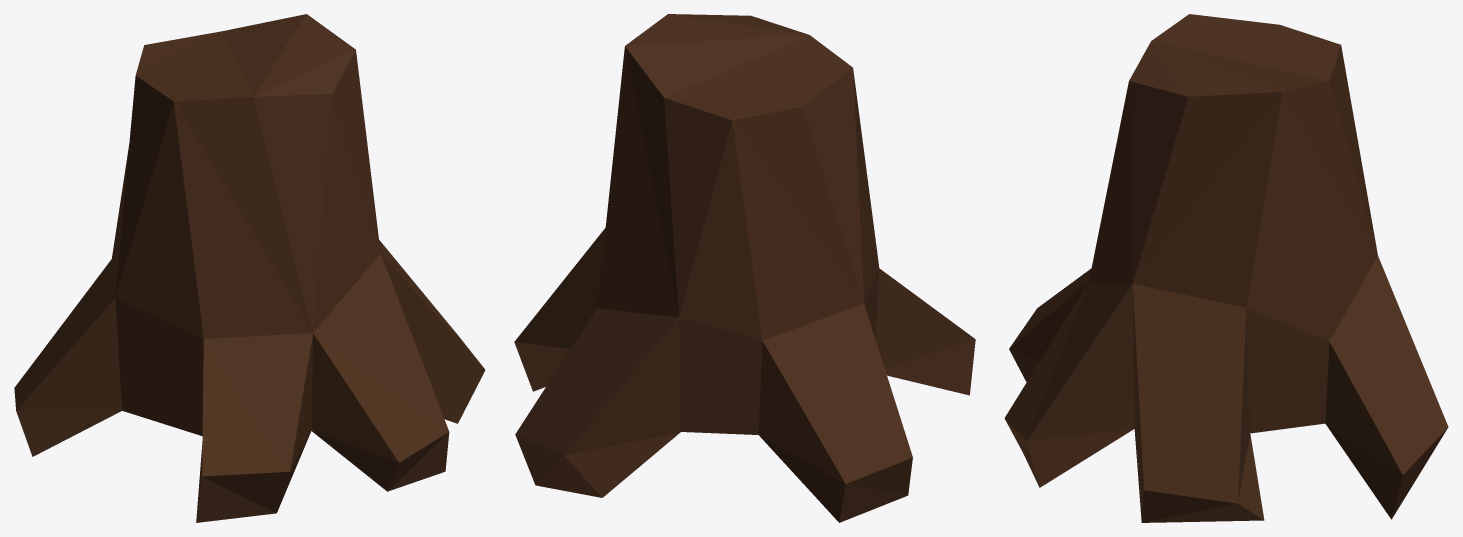
Rendered from Tree_Stump_03.fbx.
3 renders of one model, left to right at view 1: azimuth 30°, elevation 25°; view 2: azimuth 150°, elevation 25°; view 3: azimuth 270°, elevation 25°, orthographic. The views are drawn at different scales.
Parts seen in each view (by area): view 1: Cylinder; view 2: Cylinder; view 3: Cylinder.
Boxes of the visible parts, x1,y1,x2,y2 form: Cylinder: (14,14,485,522); Cylinder: (514,14,975,522); Cylinder: (1004,14,1448,522).
Size of the model in its own units: 105 by 96.78 by 94.88.
